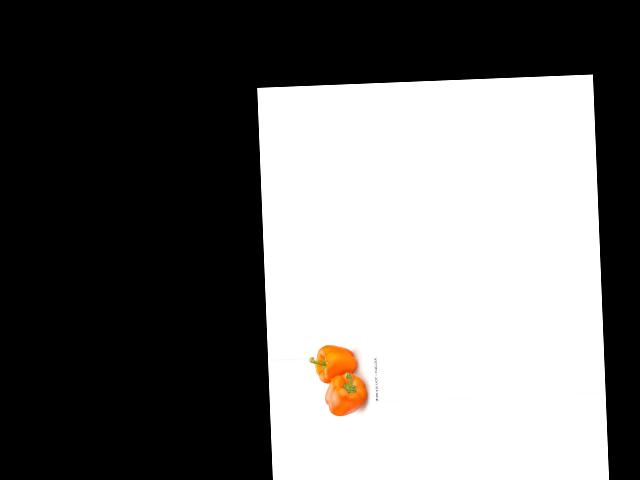bell_pepper: (322, 370, 371, 417)
